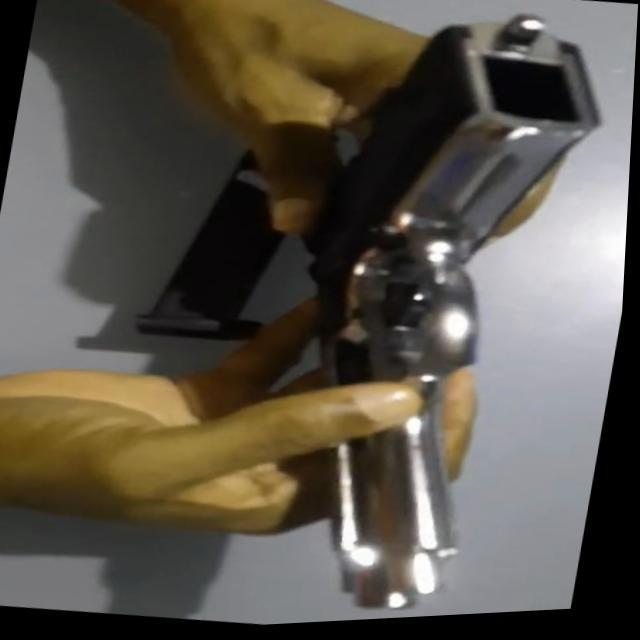weapon: (90, 0, 623, 635)
